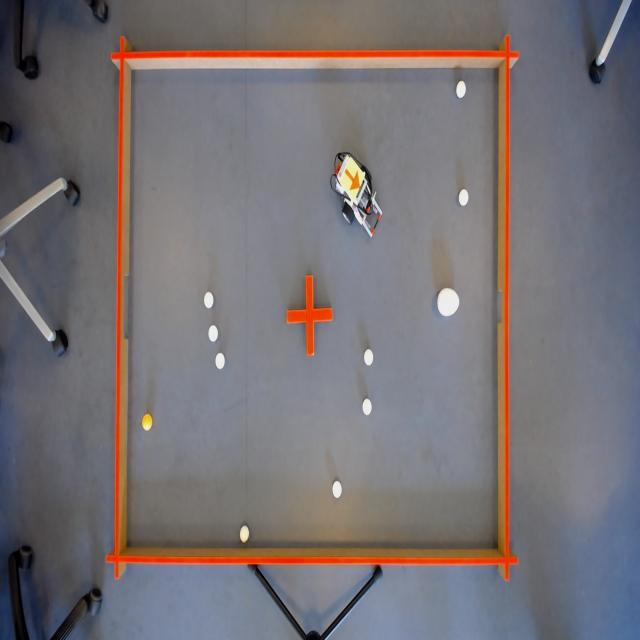cross: (286, 273, 333, 358)
egg: (436, 285, 462, 319)
orange_ball: (140, 409, 152, 434)
robot: (339, 156, 366, 203)
white_ball: (331, 477, 344, 503), (238, 522, 251, 546), (362, 346, 376, 368), (457, 187, 470, 210), (202, 289, 215, 312), (207, 322, 220, 345), (361, 395, 373, 419), (454, 78, 467, 100), (214, 350, 227, 371)
